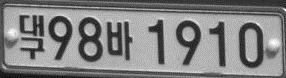0: (238, 21, 264, 68)
1: (145, 19, 172, 64), (206, 20, 232, 66)
8: (77, 15, 103, 62)
9: (175, 19, 201, 66), (47, 15, 73, 60)
대구_V: (18, 14, 45, 59)
바: (106, 20, 134, 61)
